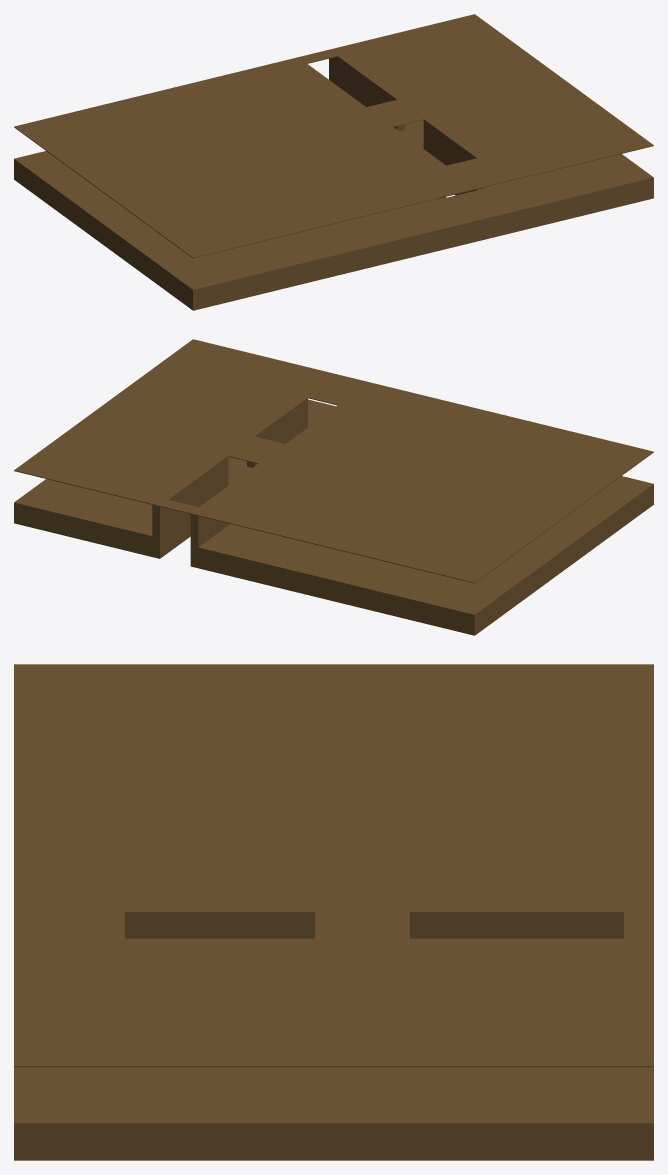
The model's file is Floor and underground collider.fbx.
The picture shows the model from 3 angles, top to bottom: view 1: azimuth 30°, elevation 25°; view 2: azimuth 150°, elevation 25°; view 3: azimuth 270°, elevation 25°; orthographic projection. The views are drawn at different scales.
Visible parts, largest first — view 1: underground entrance walls collider; view 2: underground entrance walls collider; view 3: underground entrance walls collider.
Boxes of the visible parts, x1,y1,x2,y2 form: underground entrance walls collider: (14, 14, 653, 310); underground entrance walls collider: (14, 339, 653, 635); underground entrance walls collider: (14, 664, 653, 1160).
Size of the model in its own units: 6000 by 4040 by 661.
